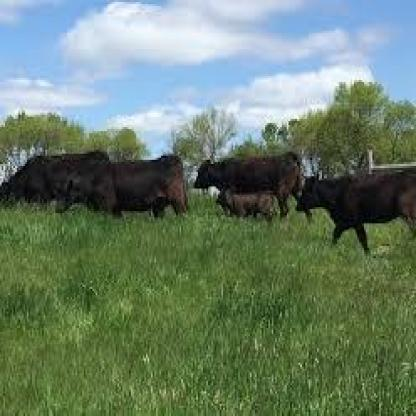cow: (297, 169, 416, 255), (57, 160, 190, 217), (198, 157, 307, 224), (2, 154, 62, 215), (214, 190, 284, 220)
